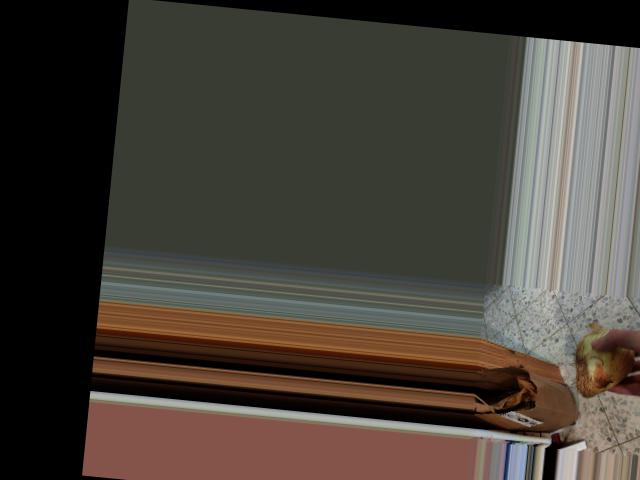onion: (561, 323, 640, 402)
